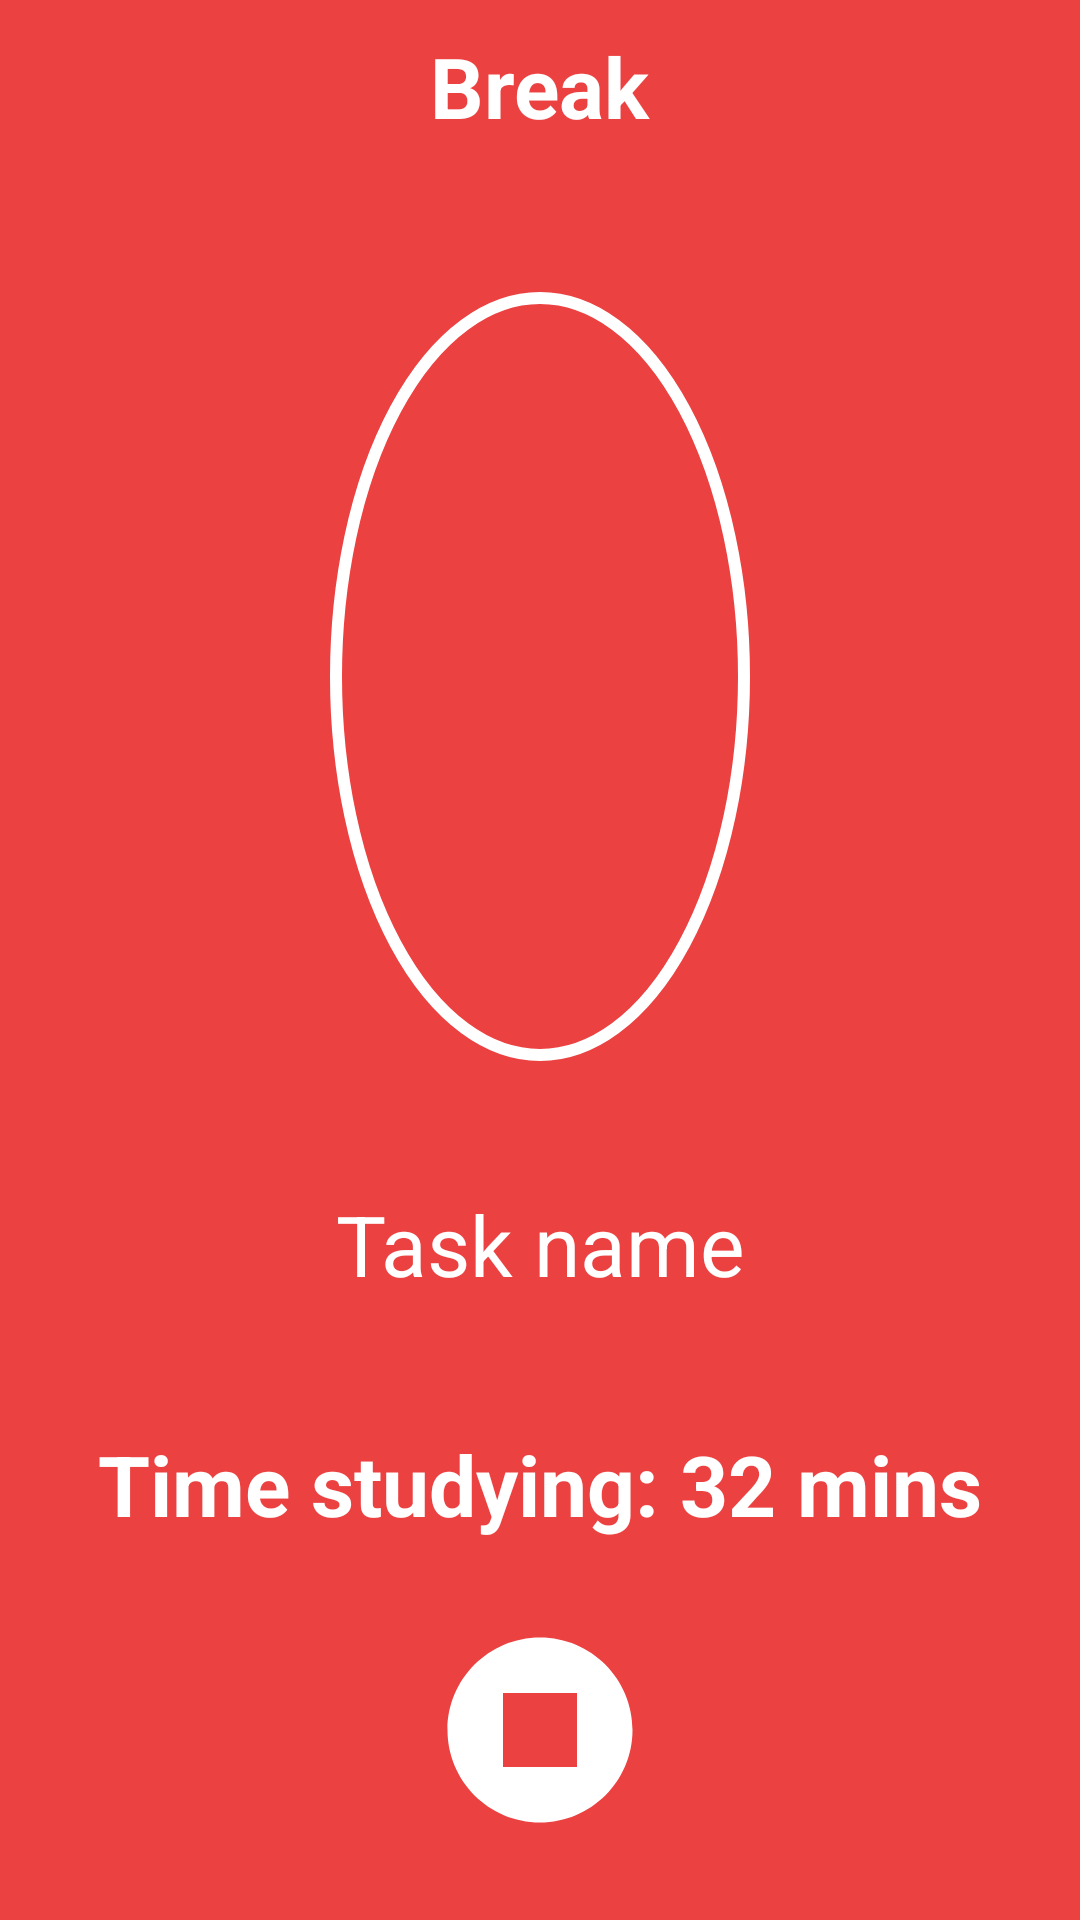

Named icons in this screenshot (1080x1920) and their bounding boxes, (x1, y1, x2, y2):
stop circle: (447, 1637, 633, 1823)
